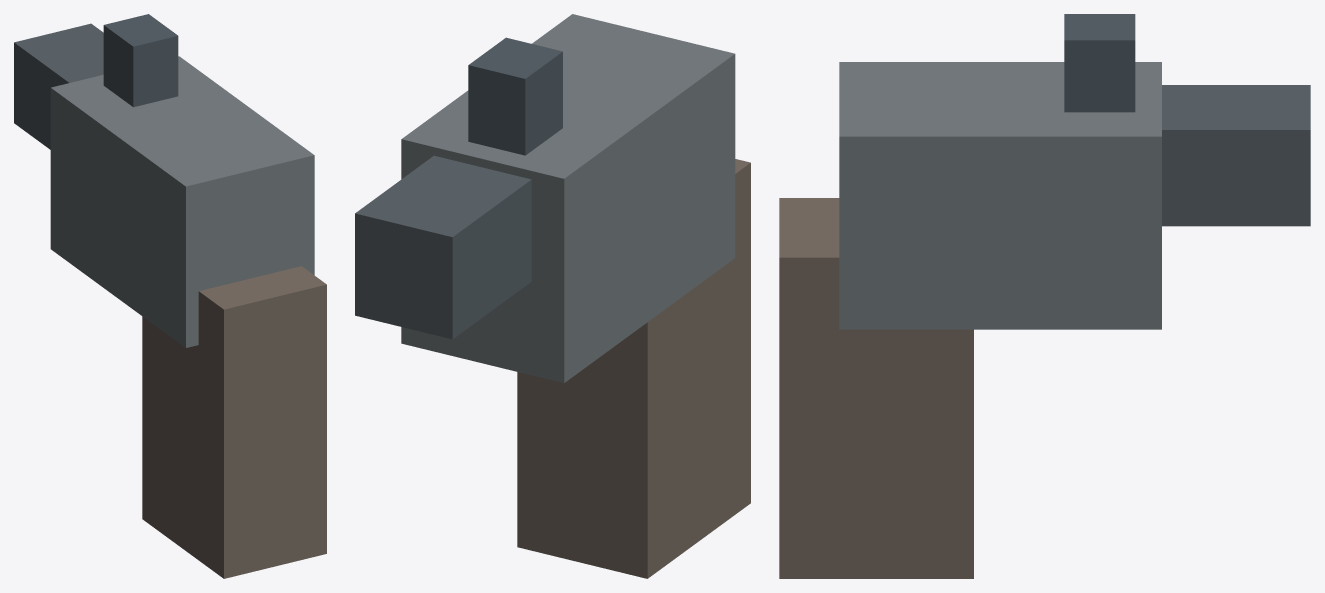
Rendered from pistol.glb.
3 views of the same model, side by side, from view 1: azimuth 30°, elevation 25°; view 2: azimuth 150°, elevation 25°; view 3: azimuth 270°, elevation 25° (orthographic). The views are drawn at different scales.
Parts seen in each view (by area): view 1: receiver, grip, barrel, sight; view 2: receiver, grip, barrel, sight; view 3: receiver, grip, barrel, sight.
Boxes of the visible parts, x1,y1,x2,y2 form: receiver: (50, 56, 314, 347); grip: (142, 266, 326, 578); barrel: (14, 23, 103, 149); sight: (103, 14, 178, 107); receiver: (401, 14, 735, 382); grip: (517, 159, 750, 578); barrel: (355, 155, 531, 339); sight: (468, 37, 562, 155); receiver: (839, 62, 1161, 329); grip: (779, 198, 973, 578); barrel: (1162, 85, 1310, 226); sight: (1064, 14, 1135, 112).
Bounding box in the file's own units: 0.1 × 0.325 × 0.3.
